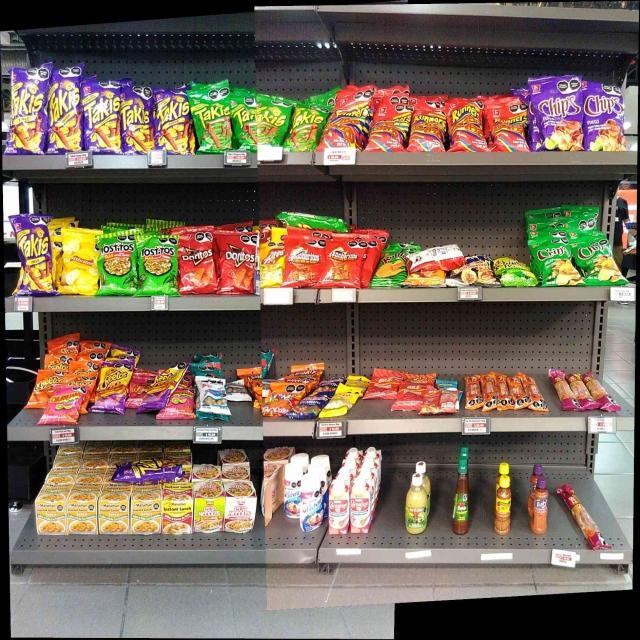bitzEnchilado90: (370, 371, 398, 398), (400, 384, 424, 409)
bitzEnchilado95: (526, 374, 540, 412), (466, 374, 480, 409), (483, 376, 495, 410), (497, 374, 509, 408), (511, 374, 523, 408)
bitzHabanero: (565, 486, 607, 548), (591, 373, 616, 409), (573, 372, 589, 410), (556, 372, 570, 409)
bokadosCacahuates: (297, 394, 321, 418), (318, 377, 338, 392)
botaneraChilito: (494, 474, 512, 536)
cheetosFlaminHot: (98, 361, 125, 412), (149, 365, 173, 408)
cheetosOriginal: (32, 370, 48, 407)
chipsFuego: (536, 79, 581, 150), (584, 81, 625, 150)
chipsJalapeno: (537, 238, 576, 285), (580, 240, 620, 285)
chipsPapatinas: (498, 258, 534, 285)
churrumais: (49, 388, 80, 423), (174, 389, 194, 418)
delPrimoSalsa: (404, 472, 428, 534)
doritosNacho: (180, 237, 216, 293), (220, 235, 253, 292)
fritosLimon: (260, 242, 283, 286)
leoCacahuates: (200, 376, 227, 412), (229, 381, 246, 399)
leoMix: (448, 101, 486, 152), (489, 107, 528, 152), (411, 104, 444, 150), (266, 385, 292, 415)
maruchanPollo: (100, 483, 130, 535), (36, 485, 67, 535), (131, 486, 160, 534), (70, 485, 98, 534)
maruchanRes: (162, 483, 192, 533)
nestleCarnation: (350, 478, 371, 533), (328, 478, 348, 534)
nestleLechera: (300, 473, 324, 532), (284, 463, 299, 519)
nissinCamaron: (194, 482, 224, 532)
nissinRes: (226, 480, 256, 534)
popKarameladas: (453, 256, 494, 284)
productoAtras: (411, 245, 451, 270), (426, 390, 457, 412)
rancheritos: (326, 241, 365, 288), (286, 237, 321, 284)
rufflesQueso: (378, 246, 407, 287)
runners: (330, 96, 362, 147), (372, 103, 406, 151)
sabritasOriginal: (62, 232, 97, 294)
salsaBufalo: (452, 456, 469, 535)
semillasCalabaza: (328, 393, 353, 416)
tajinDulce: (531, 474, 548, 534)
takisFuego: (10, 67, 44, 155), (16, 214, 52, 295), (48, 70, 82, 152), (85, 82, 118, 153), (157, 88, 191, 155), (122, 84, 154, 152), (118, 459, 182, 482)
takisOriginal: (195, 87, 231, 152), (289, 102, 319, 149), (283, 210, 349, 231), (234, 94, 258, 150), (260, 98, 285, 148)
tostitos: (139, 235, 177, 294), (99, 234, 135, 294)
